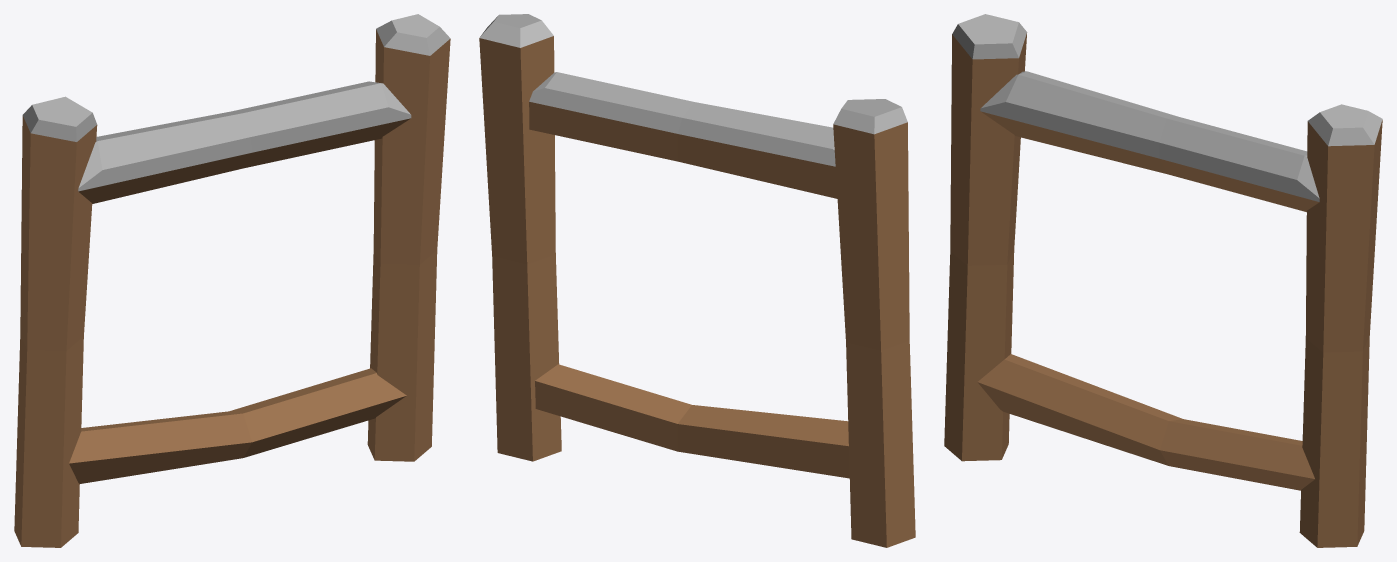
The model's file is Fence_1 Door Winter.fbx.
3 renders of one model, left to right at view 1: azimuth 30°, elevation 25°; view 2: azimuth 150°, elevation 25°; view 3: azimuth 330°, elevation 25°, orthographic.
Parts seen in each view (by area): view 1: FenceDoorWinter_mesh; view 2: FenceDoorWinter_mesh; view 3: FenceDoorWinter_mesh.
Boxes of the visible parts, x1,y1,x2,y2 form: FenceDoorWinter_mesh: (14,14,450,547); FenceDoorWinter_mesh: (479,14,915,547); FenceDoorWinter_mesh: (944,14,1382,547).
Size of the model in its own units: 79.29 by 75.1 by 10.79.
